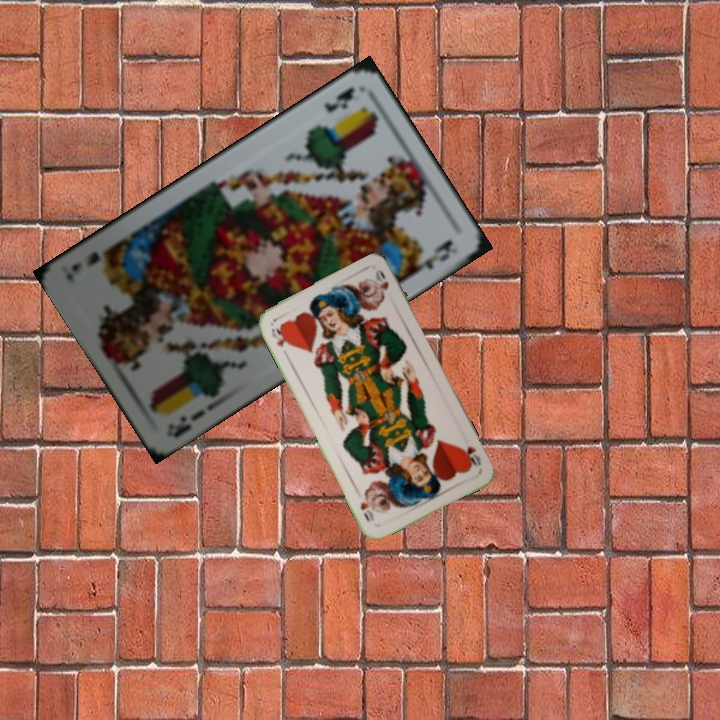EK: (163, 406, 207, 440), (320, 83, 357, 115)
HO: (267, 323, 292, 350), (459, 443, 484, 469)
